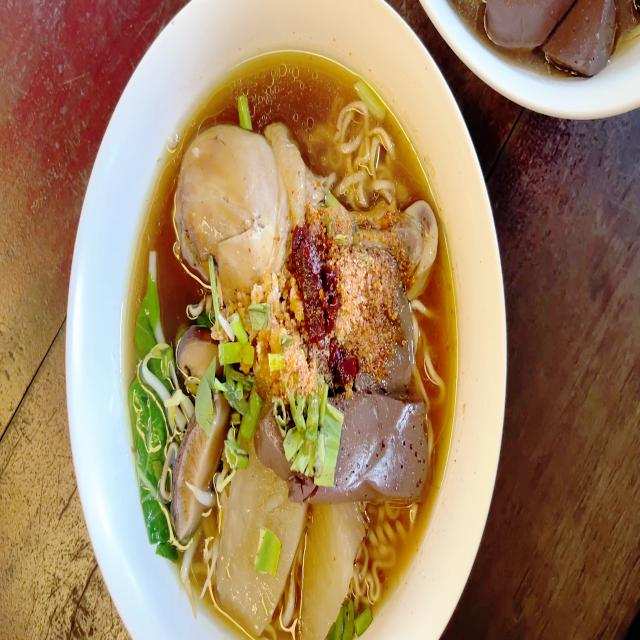boiled_chicken_blood_jelly: (479, 0, 639, 79), (332, 398, 427, 508)
chicken_drumstick: (170, 124, 436, 310)
daikon_radish: (208, 485, 368, 628)
noodle: (128, 50, 455, 640)
